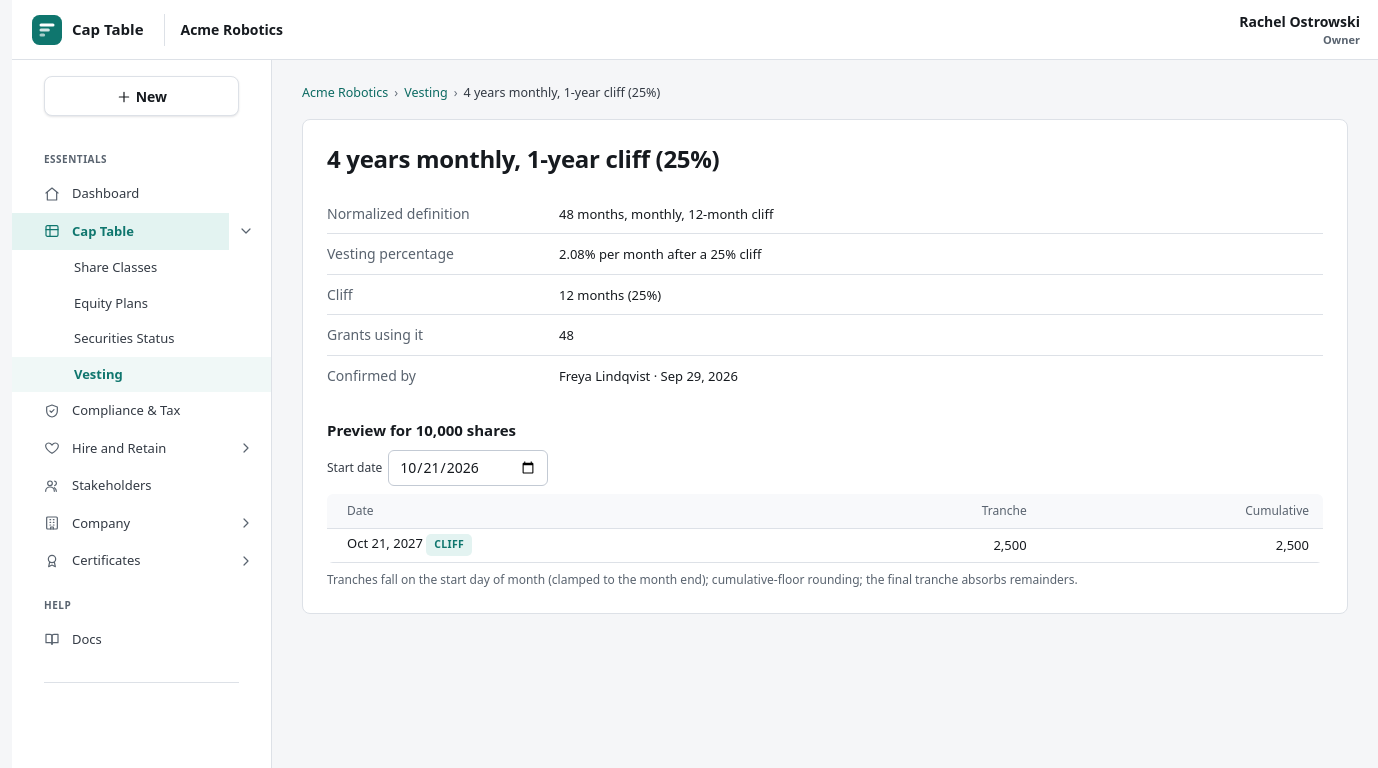
it: vesting › previews a schedule for 10,000 shares and re-runs it for another start date
Expected: the heading "4 years monthly, 1-year cliff (25%)" is shown, 327,144 -> 719,174
Expected: the text "48 months, monthly, 12-month cliff" is shown, 559,205 -> 773,223
In the date field labelled "Start date": [468, 468] box 388,450 -> 548,486, type "2026-01-31"
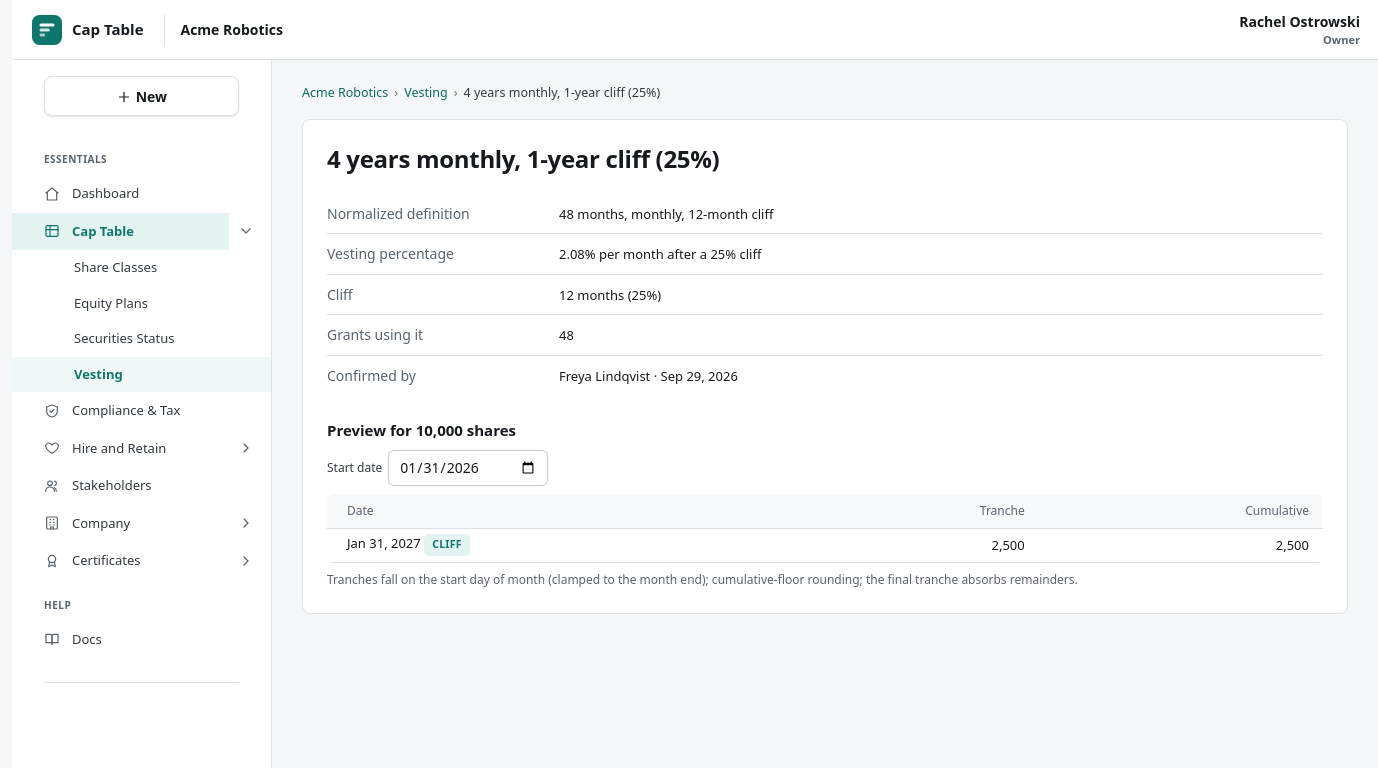
Expected: the text "Jan 31, 2027" is shown, 347,535 -> 421,553
